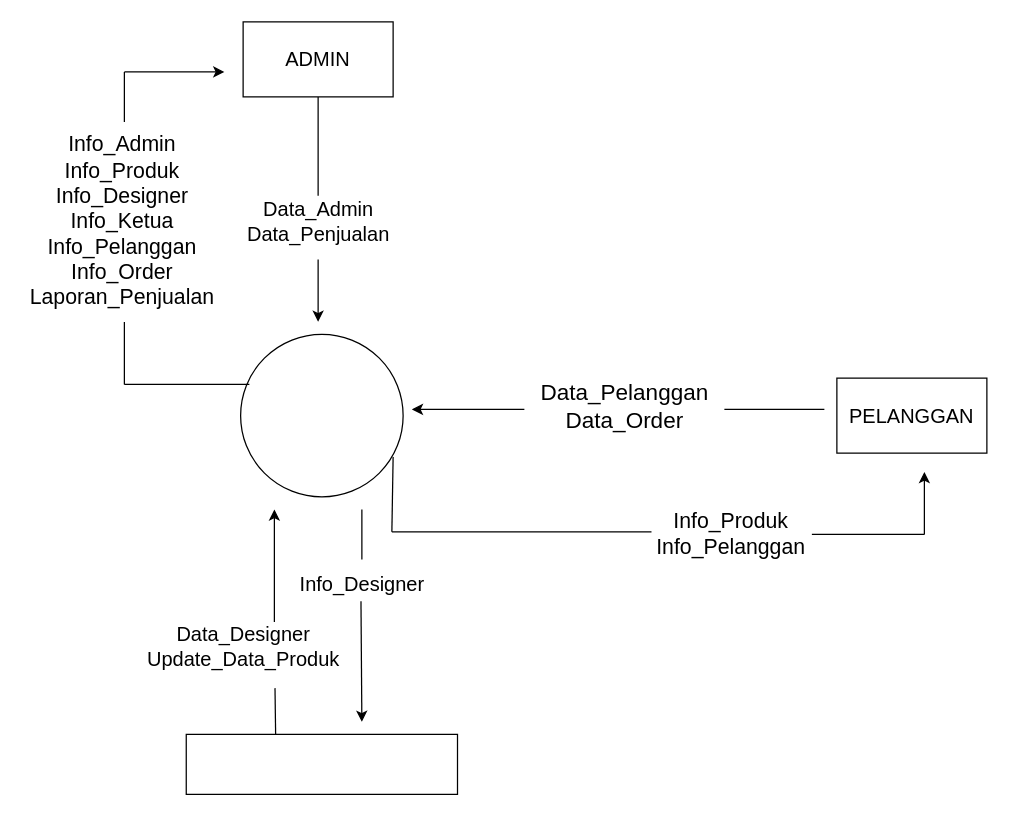
The diagram is 1009 pixels wide and 816 high, and some of its shapes have lost their labels. The shapes that lost their labels are listed below. From the top down, each one's box as (x1, y1, x2, y2) in pixels, then its label:
(239, 333, 403, 497): Sistem Informasi CV. Karya Jaya Design Undangan
(185, 733, 458, 794): DESIGNER
